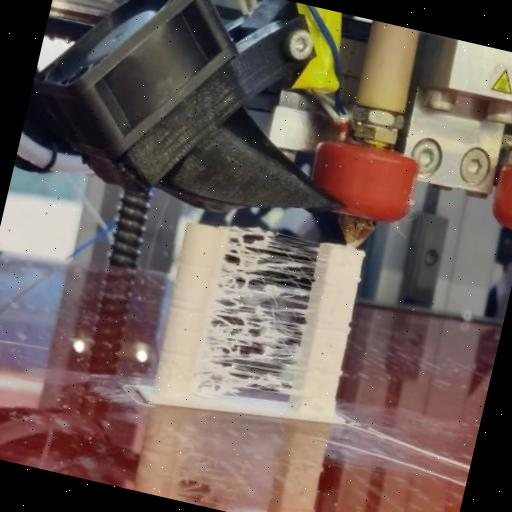stringing: (176, 211, 340, 423)
